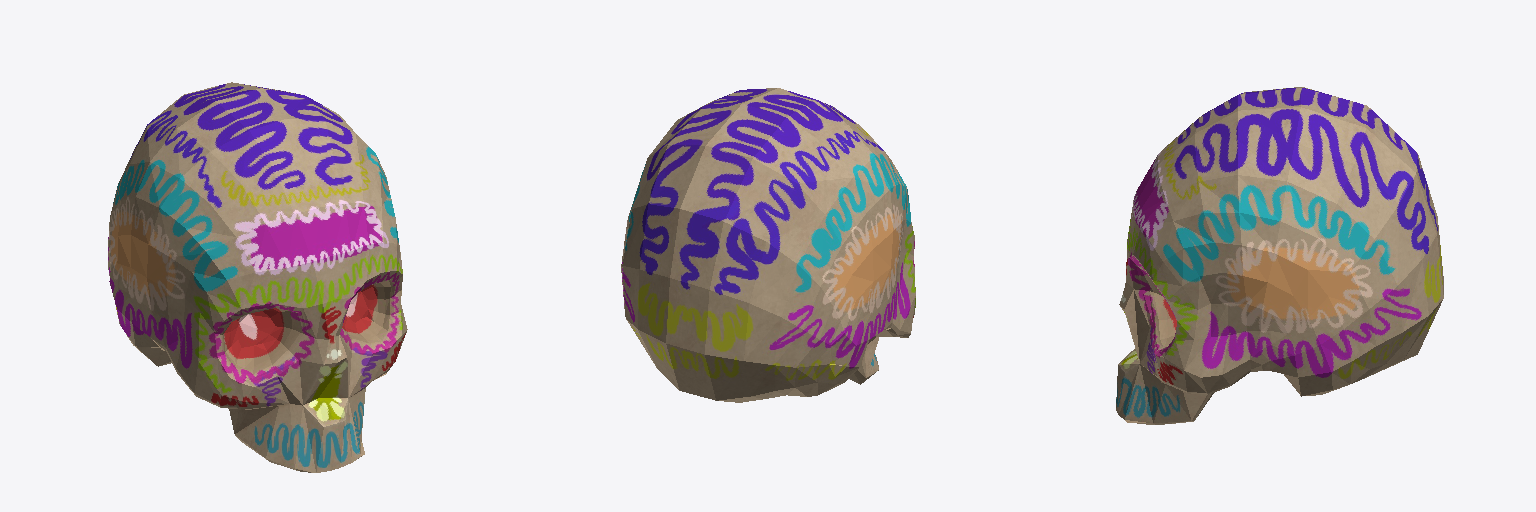
3 renders of one model, left to right at view 1: azimuth 30°, elevation 25°; view 2: azimuth 150°, elevation 25°; view 3: azimuth 270°, elevation 25°, orthographic.
Visible parts, largest first — view 1: Calaverita_meshId0_name; view 2: Calaverita_meshId0_name; view 3: Calaverita_meshId0_name.
Boxes of the visible parts, x1,y1,x2,y2 form: Calaverita_meshId0_name: [108, 82, 407, 472]; Calaverita_meshId0_name: [621, 88, 915, 402]; Calaverita_meshId0_name: [1116, 87, 1443, 424].
Bounding box in the file's own units: 21.71 × 27.85 × 26.46.
1 materials, 1 textured.